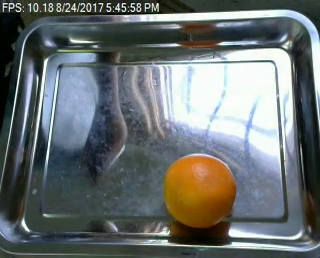Orange: (163, 153, 237, 227)
